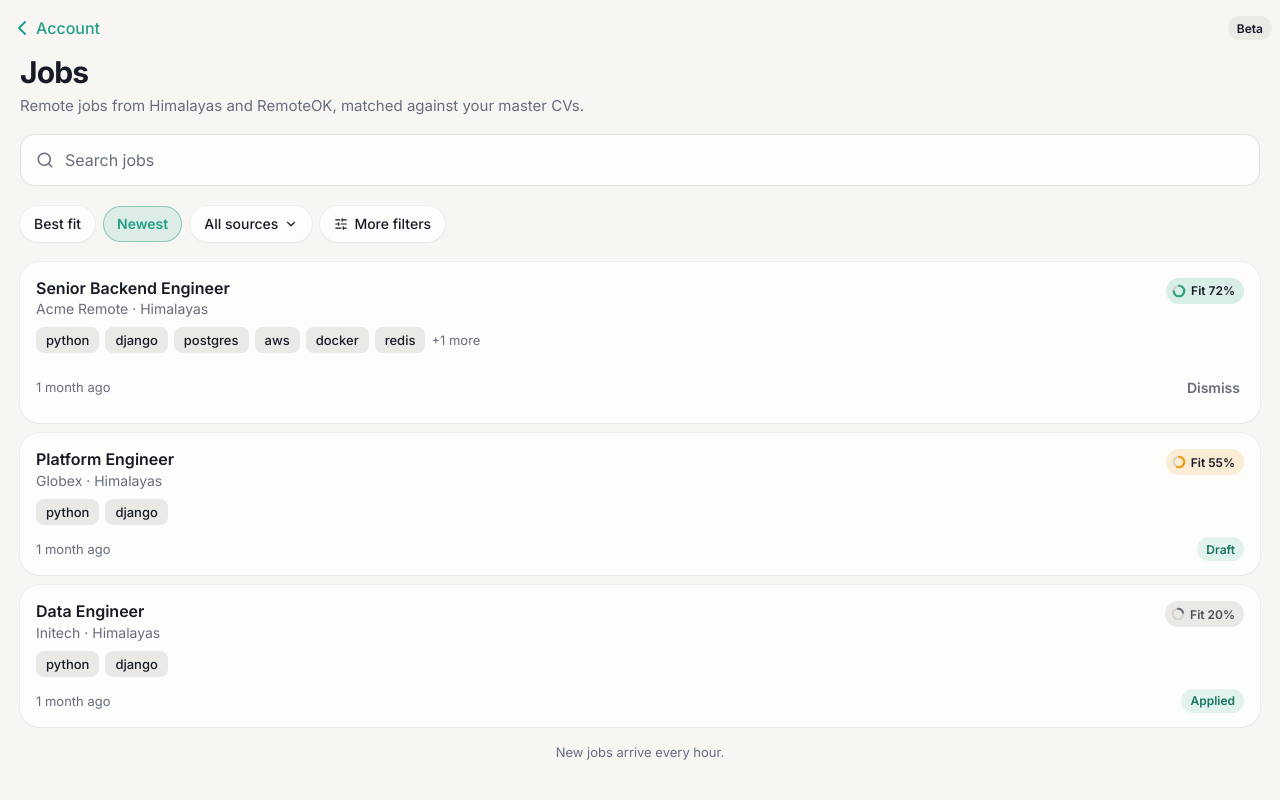
Test: Jobs below md › holds the other filters and today's saved searches in the More filters sheet
Expected: the element "Senior Backend Engineer" is shown, [20,262,1260,423]
Click the button "More filters" at [383, 224], box [320,202,445,246]
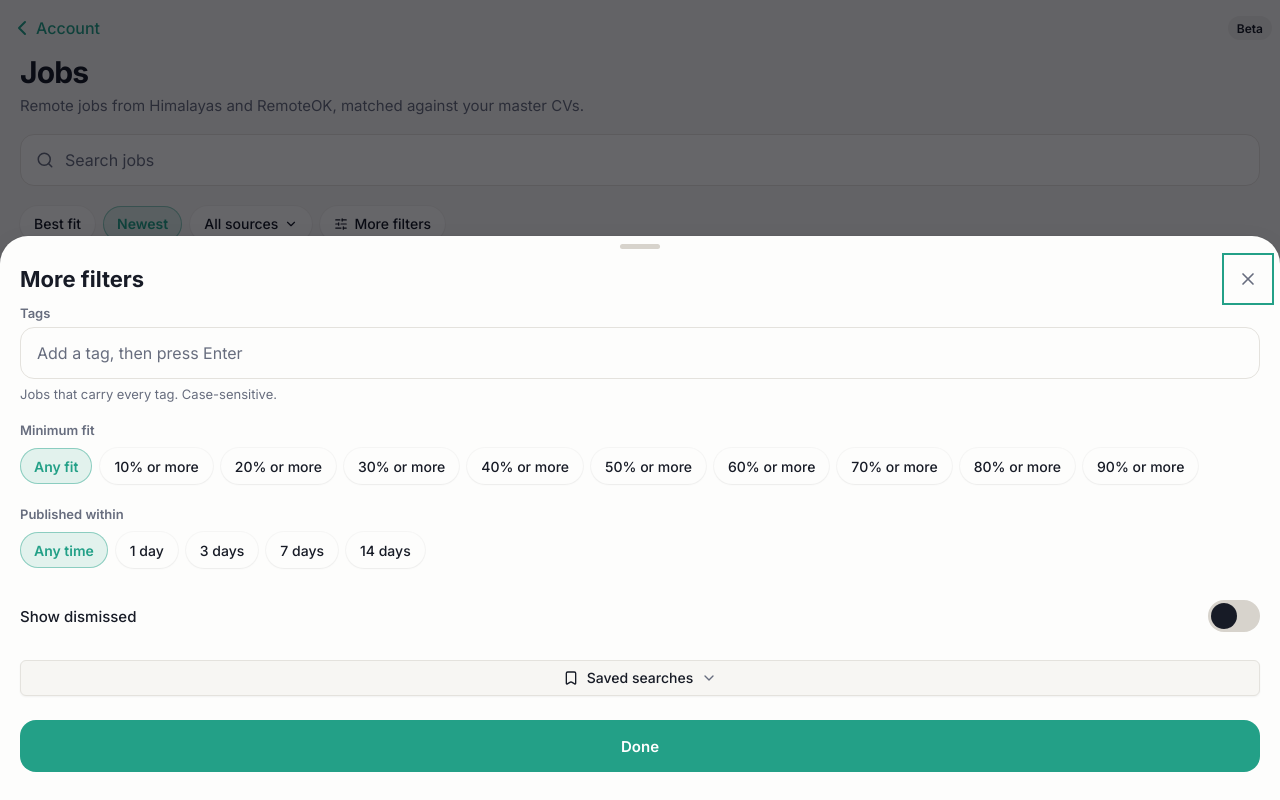
Expected: the field labelled "Tags" is shown, [20,327,1260,379]
Expected: the element "Minimum fit" is shown, [20,422,1260,488]
Expected: the element "Published within" is shown, [20,506,425,572]
Click the switch named "Show dismissed" at [1234, 616], box [1208,594,1260,638]
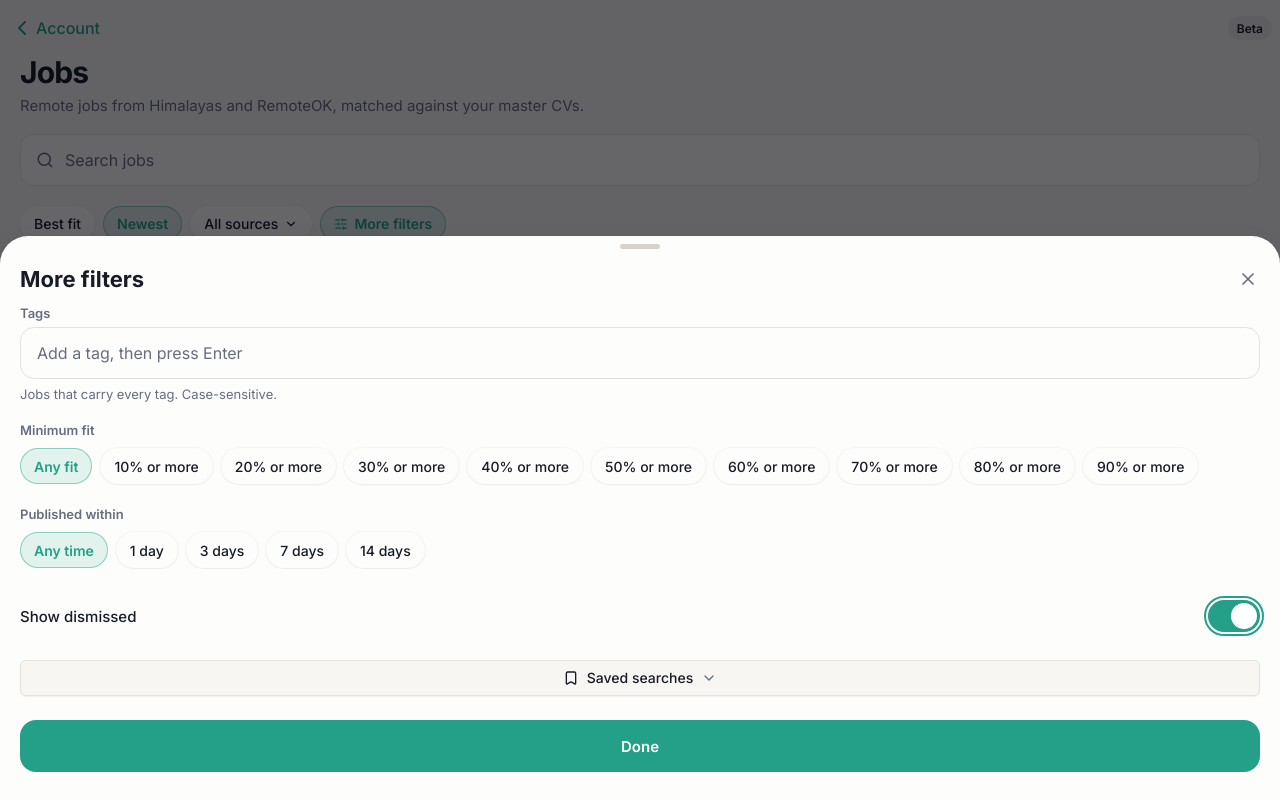
Click the button "Done" at [640, 746], box [20,720,1260,772]
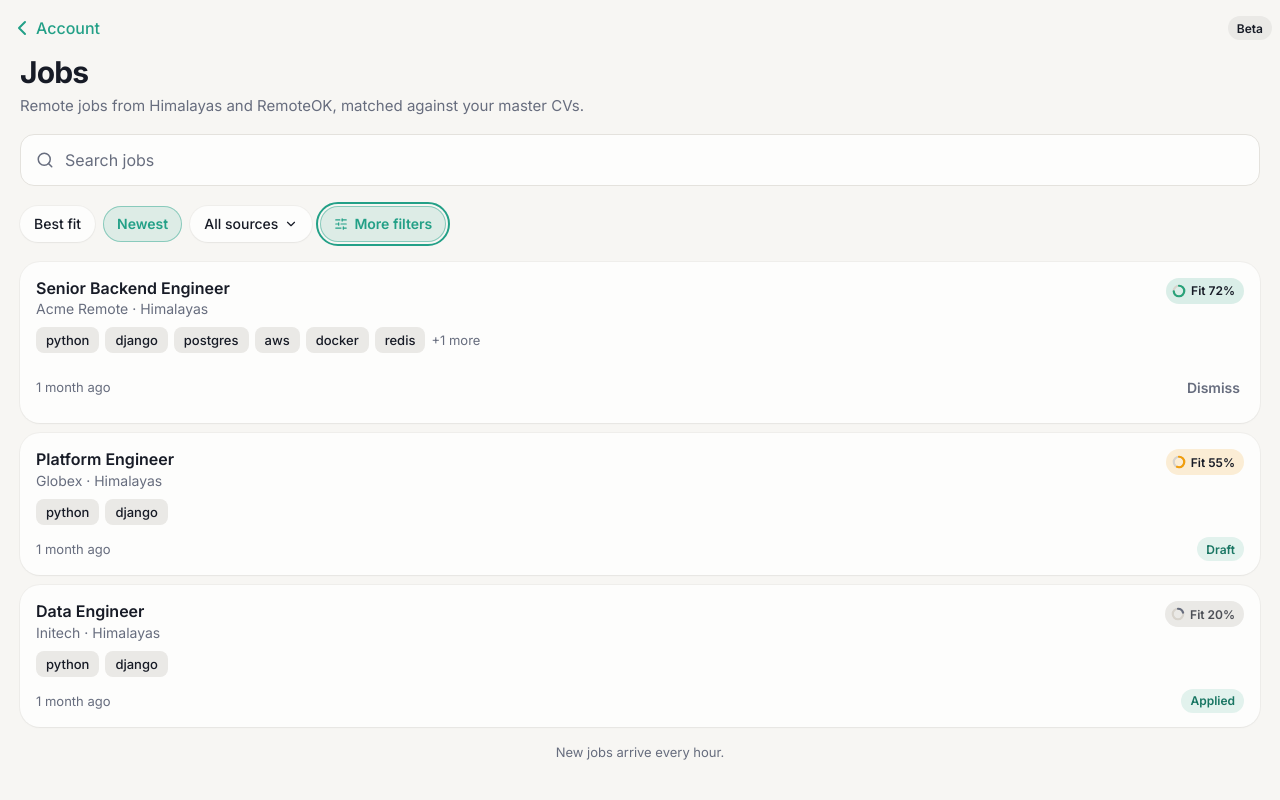
Expected: the button "More filters" has class "ph-on", [320,202,446,246]
